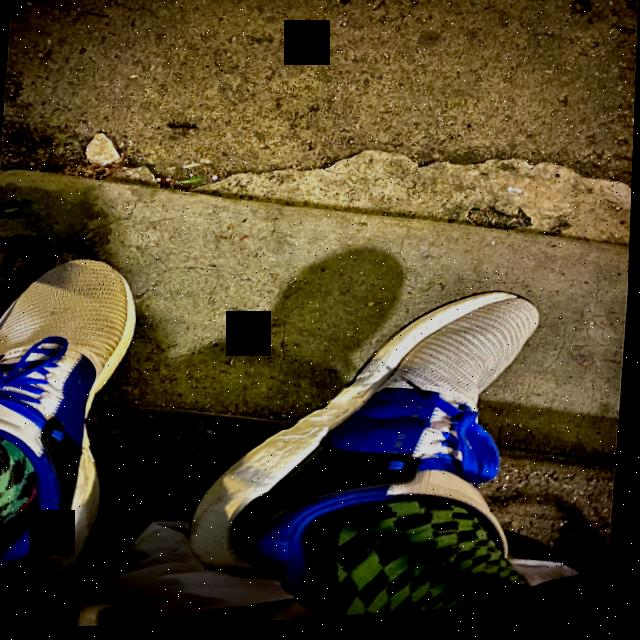shoes: (182, 283, 545, 598), (0, 250, 145, 597)
